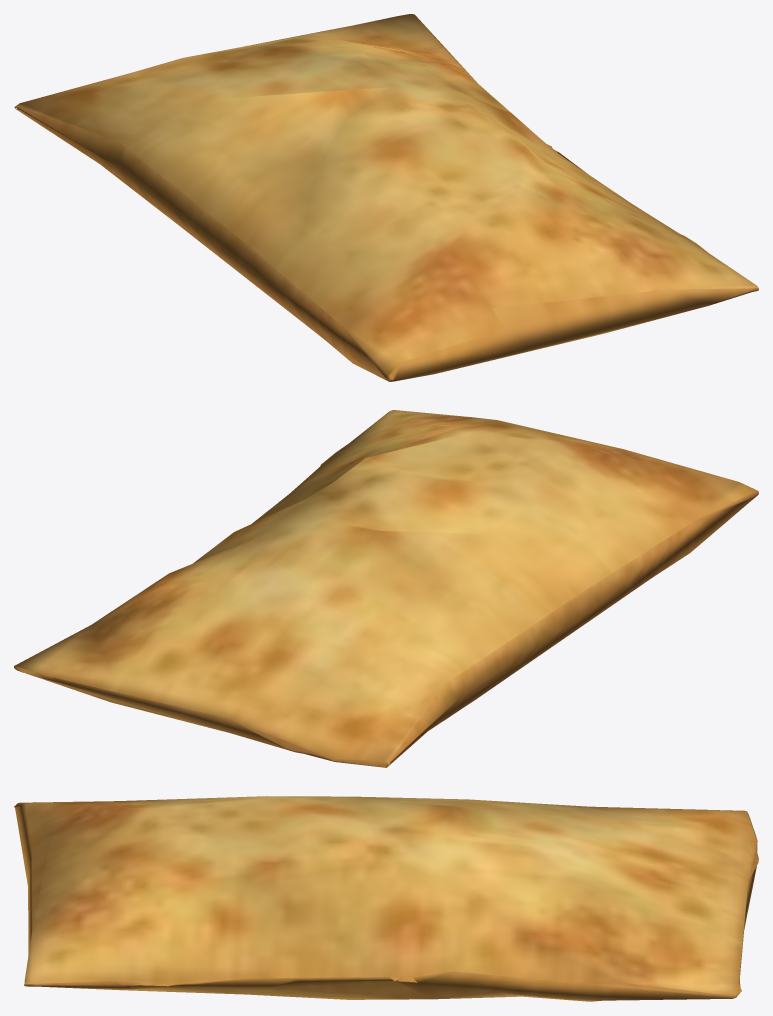
Rendered from pastel-decor.glb.
3 views of the same model, one above another, from view 1: azimuth 30°, elevation 25°; view 2: azimuth 150°, elevation 25°; view 3: azimuth 270°, elevation 25° (orthographic). The views are drawn at different scales.
Visible parts, largest first — view 1: Pastel; view 2: Pastel; view 3: Pastel.
Boxes of the visible parts, x1,y1,x2,y2 form: Pastel: (14, 14, 758, 381); Pastel: (14, 410, 758, 767); Pastel: (14, 796, 758, 1001).
Bounding box in the file's own units: 0.0897 × 0.0374 × 0.15.
1 material, 1 textured.
